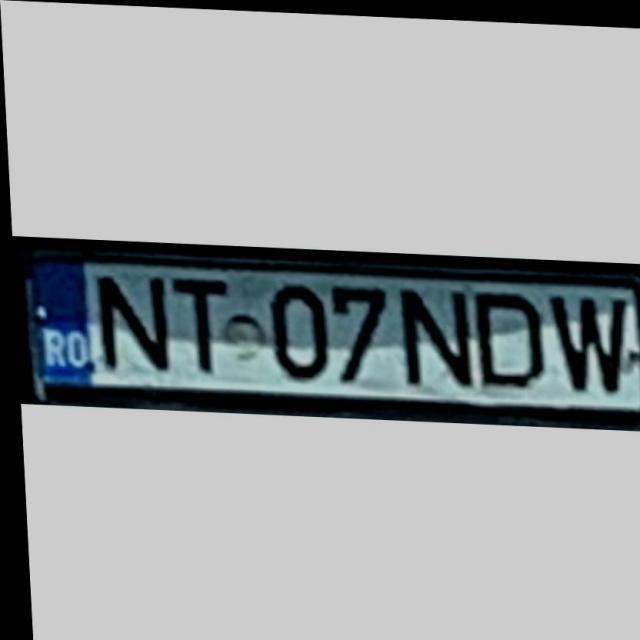license-plates: (22, 241, 640, 430)
